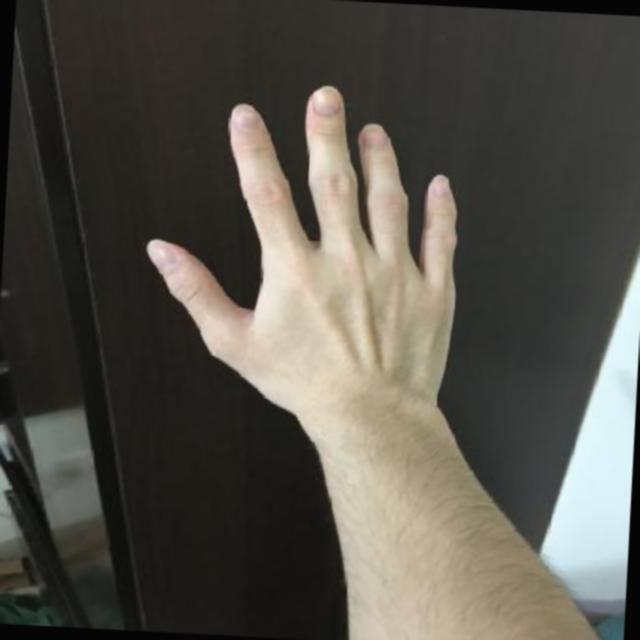hand: (121, 63, 494, 450)
